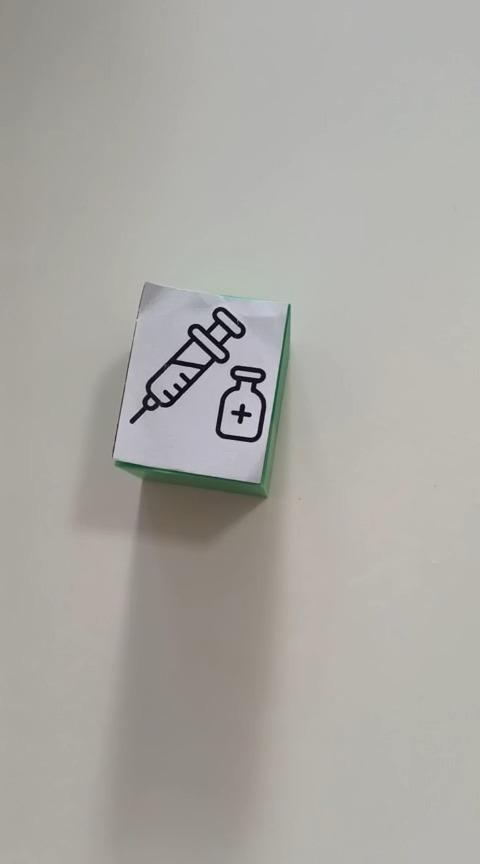antiseptic cream: (111, 280, 291, 498)
